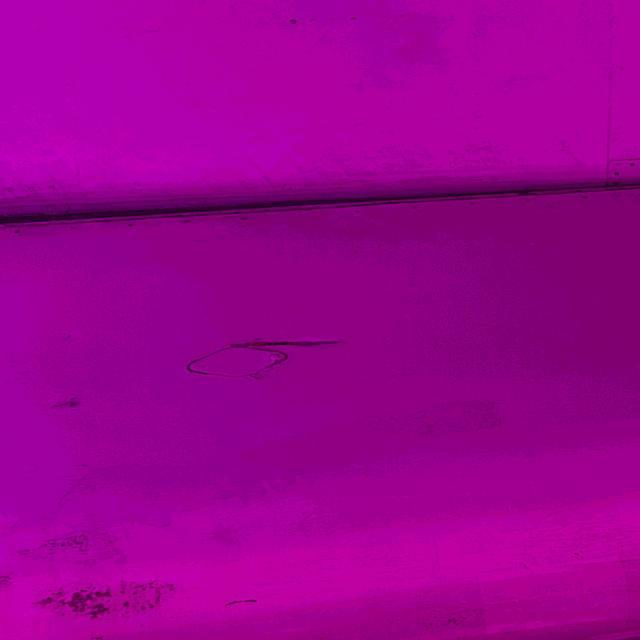crack: (239, 335, 342, 357)
